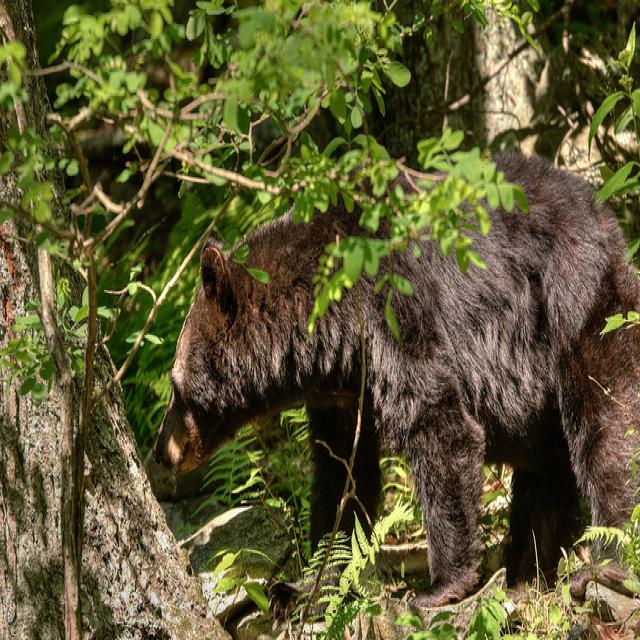Bear: (146, 135, 640, 602)
